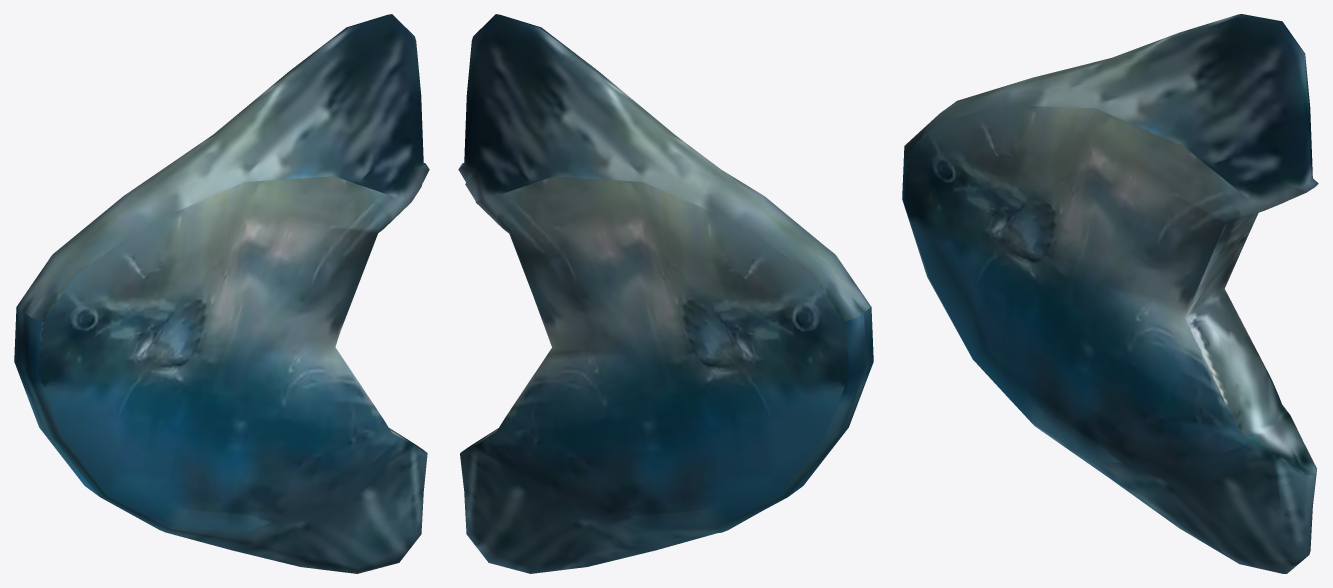
The model's file is moonfish.fbx.
The picture shows the model from 3 angles, left to right: view 1: azimuth 30°, elevation 25°; view 2: azimuth 150°, elevation 25°; view 3: azimuth 330°, elevation 25°; orthographic projection.
Visible parts, largest first — view 1: roundfishbitten; view 2: roundfishbitten; view 3: roundfishbitten.
Boxes of the visible parts, bbox=[...] form: roundfishbitten: bbox=[14, 14, 429, 573]; roundfishbitten: bbox=[458, 14, 873, 573]; roundfishbitten: bbox=[902, 14, 1318, 573].
Size of the model in its own units: 179 by 233 by 34.64.
Materials: 1 (1 with a texture image).
